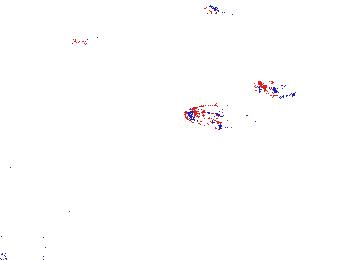X-ray fish: (1, 139, 20, 171)
red belly glassfish: (182, 103, 263, 127), (253, 80, 298, 100), (70, 33, 106, 49), (201, 3, 234, 18)
